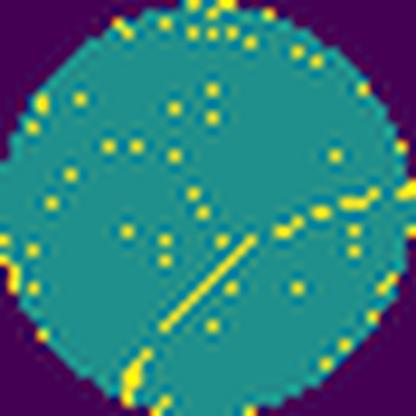Scratch: (157, 228, 263, 342)
